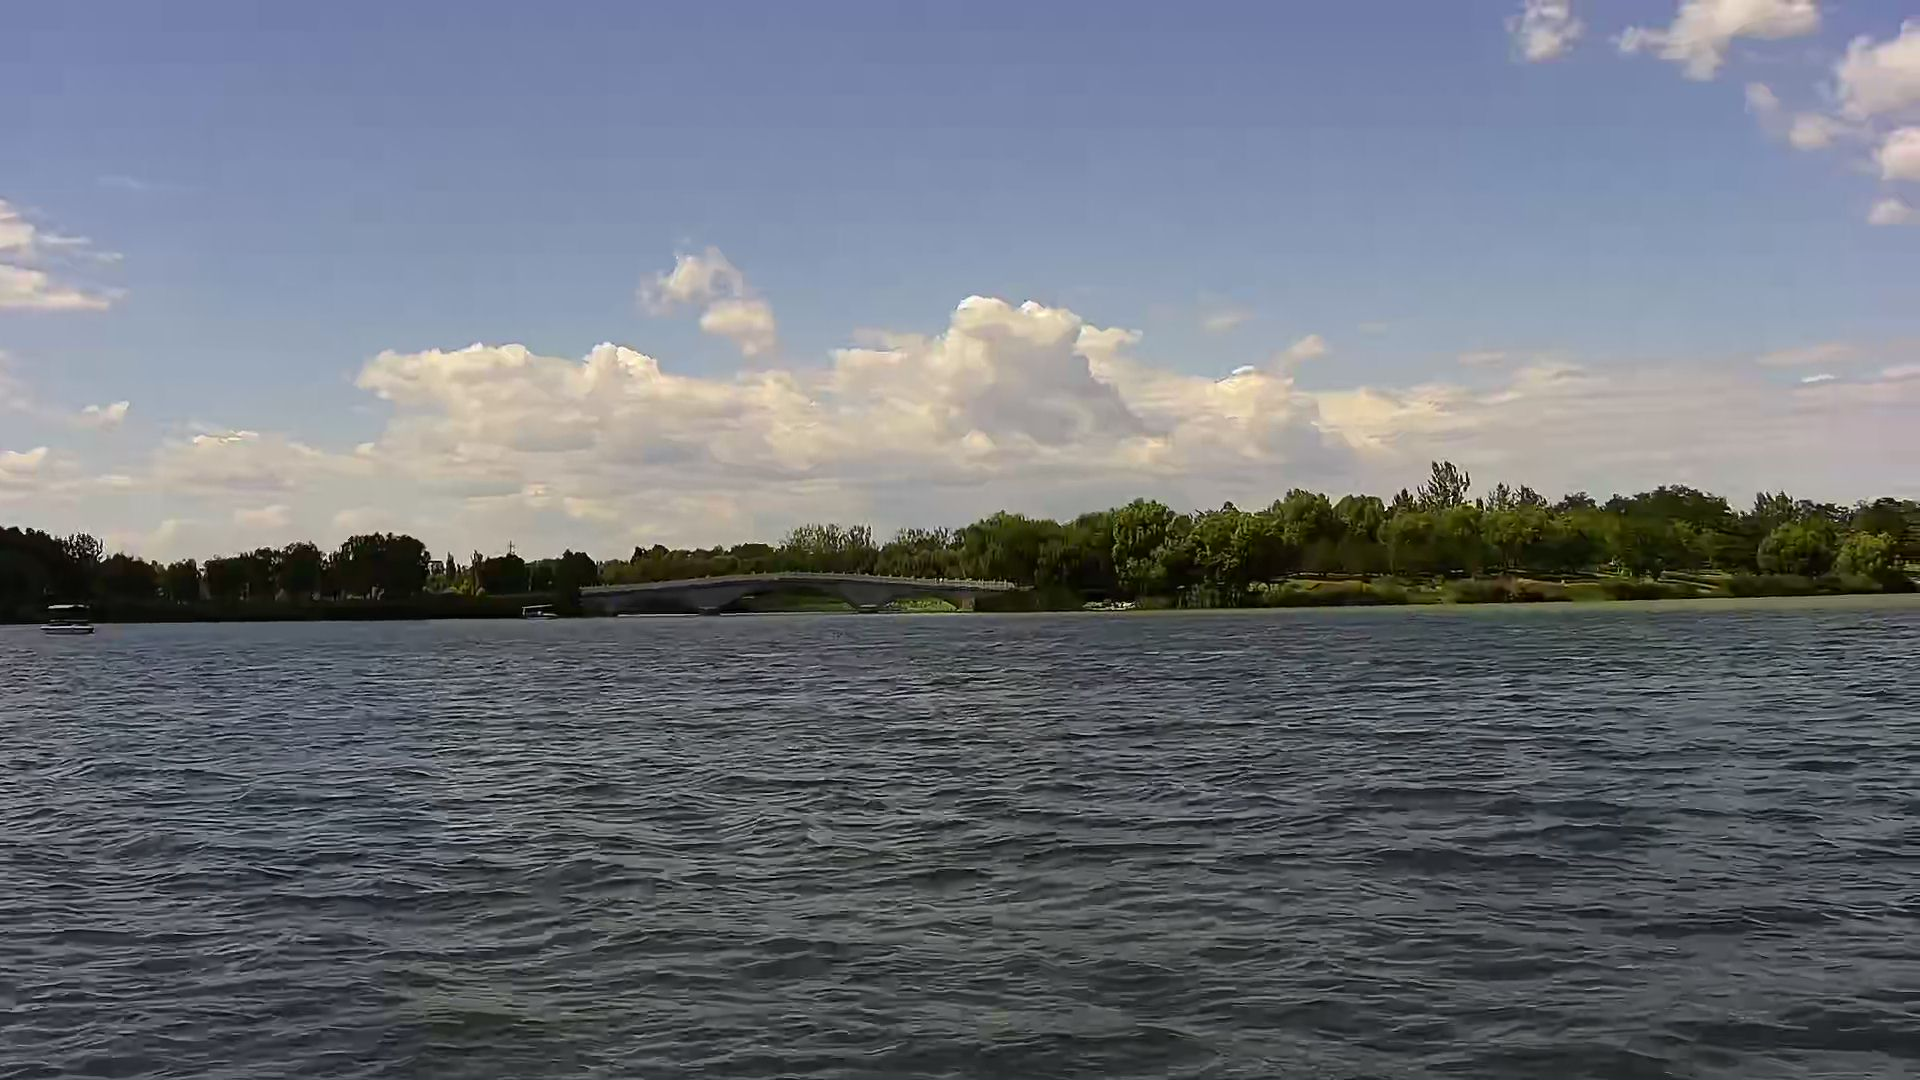boat: (36, 599, 104, 640)
bridge: (578, 570, 1011, 616)
